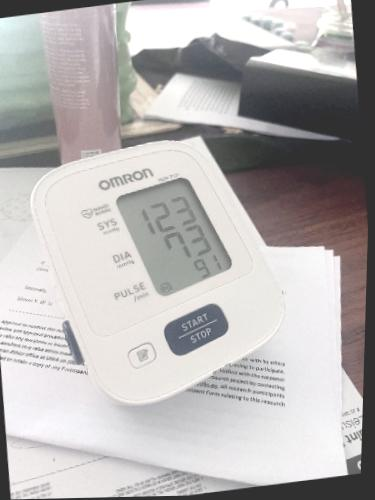bpm: (112, 163, 235, 301)
